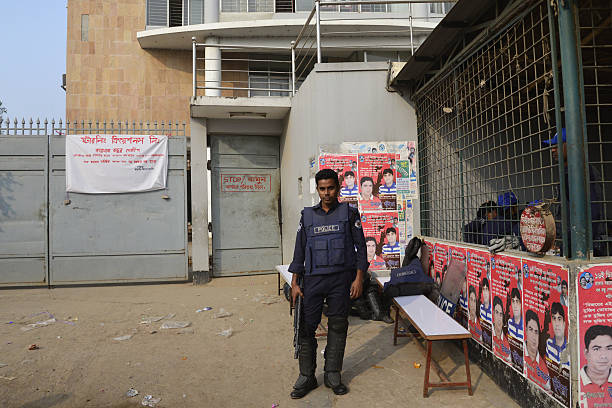noepi: (291, 167, 367, 396)
